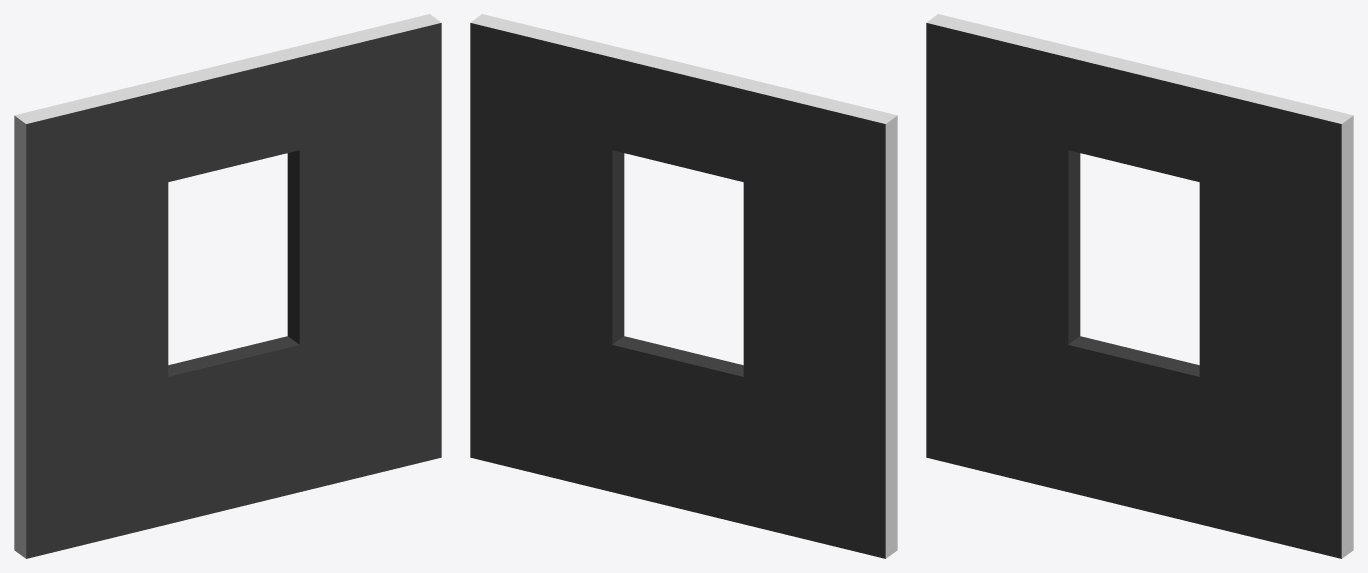
File: wall_064.fbx
3 renders of one model, left to right at view 1: azimuth 30°, elevation 25°; view 2: azimuth 150°, elevation 25°; view 3: azimuth 330°, elevation 25°, orthographic.
Visible parts, largest first — view 1: wall_064; view 2: wall_064; view 3: wall_064.
Boxes of the visible parts, x1,y1,x2,y2 form: wall_064: [14, 14, 441, 558]; wall_064: [470, 14, 897, 558]; wall_064: [926, 14, 1353, 558].
Bounding box in the file's own units: 400 × 20 × 400.
